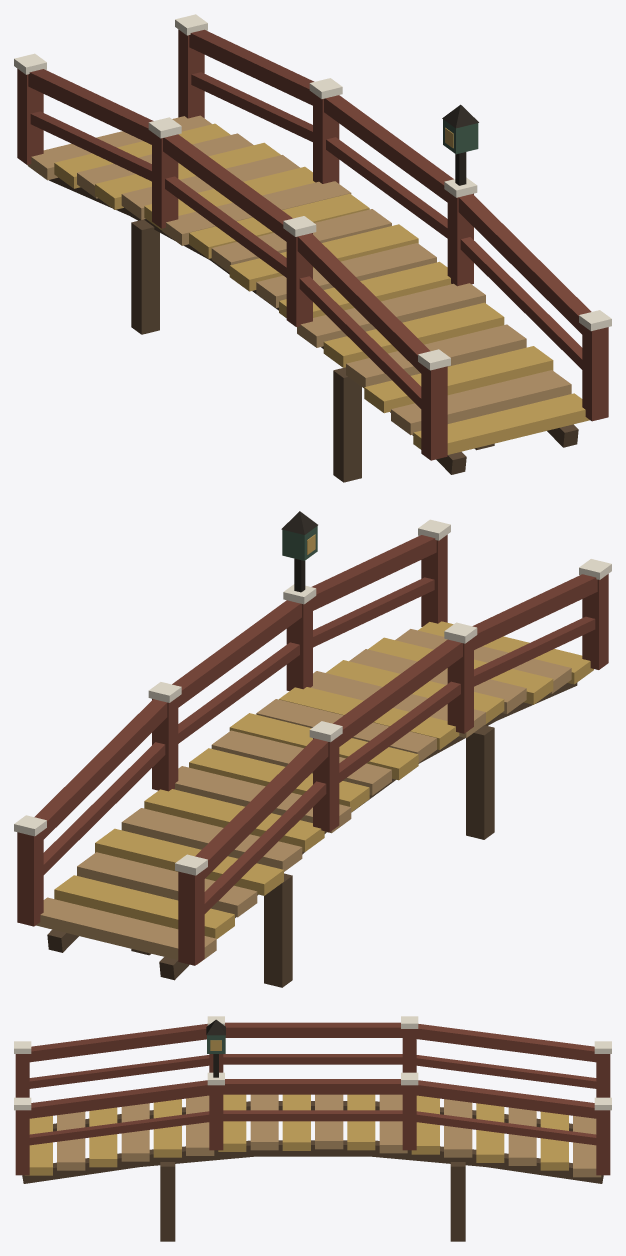
File: footbridge-span.glb
3 renders of one model, top to bottom at view 1: azimuth 30°, elevation 25°; view 2: azimuth 150°, elevation 25°; view 3: azimuth 270°, elevation 25°, orthographic. The views are drawn at different scales.
Parts seen in each view (by area): view 1: footbridge-span; view 2: footbridge-span; view 3: footbridge-span.
Part boxes in pixels (x1,y1,x2,y2): footbridge-span: (14, 14, 611, 482); footbridge-span: (14, 511, 611, 987); footbridge-span: (14, 1016, 611, 1241).
Size of the model in its own units: 2.62 by 4.26 by 10.3.
1 material, 1 textured.
